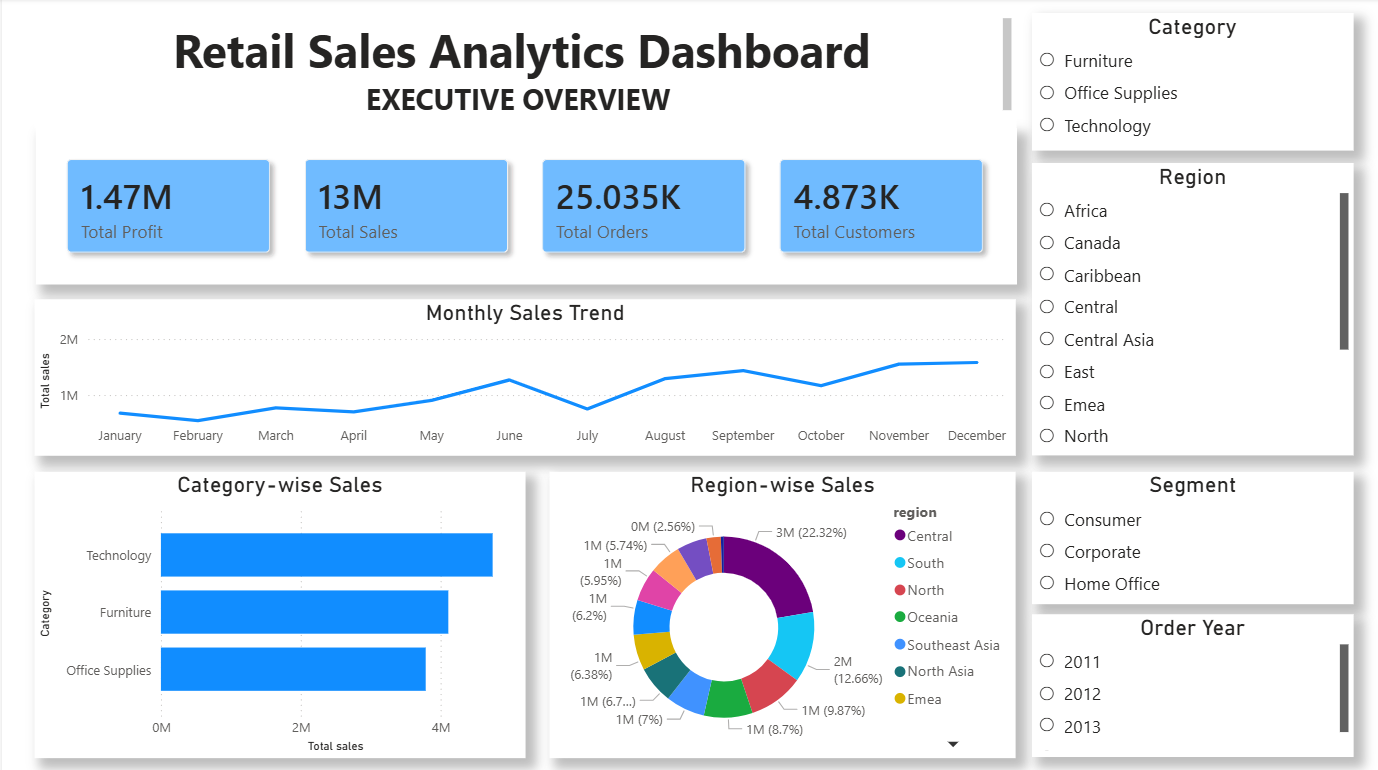

The page's visual inventory and layout, read from the dashboard file:
{"tool":"powerbi","page":{"name":"Executive Overview","canvas":[1280,720],"ordinal":0},"visuals":[{"type":"cardVisual","fields":{"Data":["Sum(final_cleaned_superstore_sql_clean.profit)","Sum(final_cleaned_superstore_sql_clean.sales)","Count(final_cleaned_superstore_sql_clean.order_id)","Count(final_cleaned_superstore_sql_clean.customer_id)"]},"box":[31.4,120.9,912.8,145.3],"z":0},{"type":"lineChart","title":"Monthly Sales Trend","fields":{"Category":["final_cleaned_superstore_sql_clean.order_date.Variation.Date Hierarchy.Month"],"Y":["Sum(final_cleaned_superstore_sql_clean.sales)"]},"box":[30.2,280.2,912.8,145.3],"z":1000},{"type":"clusteredBarChart","title":"Category-wise Sales","fields":{"Category":["final_cleaned_superstore_sql_clean.category"],"Y":["Sum(final_cleaned_superstore_sql_clean.sales)"]},"box":[30.2,440.7,457,266.3],"z":2000},{"type":"donutChart","title":"Region-wise Sales","fields":{"Category":["final_cleaned_superstore_sql_clean.region"],"Y":["Sum(final_cleaned_superstore_sql_clean.sales)"]},"box":[509.3,440.7,433.7,266.3],"z":3000},{"type":"listSlicer","title":"Category","fields":{"Values":["final_cleaned_superstore_sql_clean.category"]},"box":[957.8,13.7,299.1,127.6],"z":4000},{"type":"listSlicer","title":"Region","fields":{"Values":["final_cleaned_superstore_sql_clean.region"]},"box":[957.8,153.7,299.1,271.7],"z":5000},{"type":"listSlicer","title":"Segment","fields":{"Values":["final_cleaned_superstore_sql_clean.segment"]},"box":[957.8,440.5,299.1,123.5],"z":6000},{"type":"listSlicer","title":"Order Year","fields":{"Values":["final_cleaned_superstore_sql_clean.order_year"]},"box":[957.8,573.6,299.1,133.1],"z":7000},{"type":"textbox","box":[30.2,14,914,107],"z":8000}]}

Visuals, with their boxes in screenshot pixels (x1, y1, x2, y2), scaled from the page's 1280x720 canvas onto the 1378x770 screenshot:
cardVisual - Sum(final_cleaned_superstore_sql_clean.profit) x Sum(final_cleaned_superstore_sql_clean.sales): box=[34, 129, 1016, 285]
"Monthly Sales Trend" lineChart: box=[33, 300, 1015, 455]
"Category-wise Sales" clusteredBarChart: box=[33, 471, 525, 756]
"Region-wise Sales" donutChart: box=[548, 471, 1015, 756]
"Category" listSlicer: box=[1031, 15, 1353, 151]
"Region" listSlicer: box=[1031, 164, 1353, 455]
"Segment" listSlicer: box=[1031, 471, 1353, 603]
"Order Year" listSlicer: box=[1031, 613, 1353, 756]
textbox: box=[33, 15, 1016, 129]
